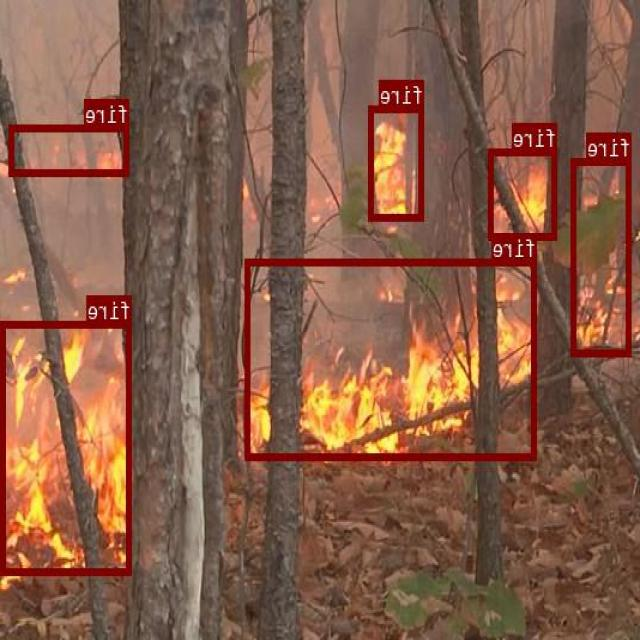fire: (246, 258, 538, 460), (2, 320, 132, 573), (572, 157, 632, 356), (369, 104, 425, 220), (490, 148, 558, 239), (10, 124, 130, 175)
